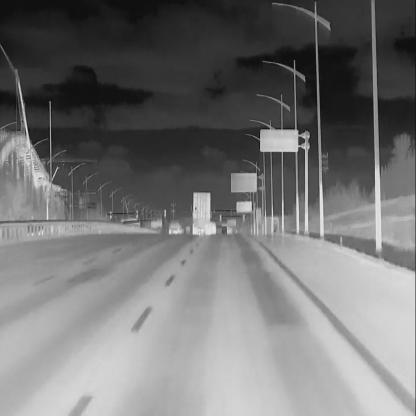car: (168, 219, 184, 236)
truck: (190, 188, 213, 237)
